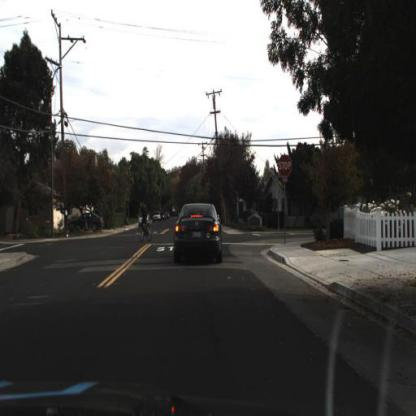biker: (137, 199, 154, 254), (138, 202, 151, 244)
car: (173, 204, 224, 264), (69, 213, 105, 231), (136, 207, 150, 227), (150, 207, 162, 225)
